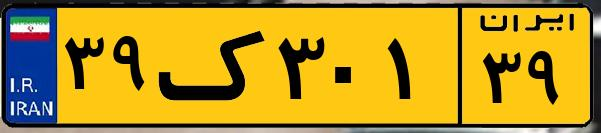0: (330, 28, 385, 110)
1: (385, 28, 445, 110)
3: (270, 28, 330, 110), (57, 26, 110, 100), (475, 38, 525, 113)
9: (525, 38, 570, 115), (110, 28, 158, 98)
ک: (158, 12, 270, 120)
